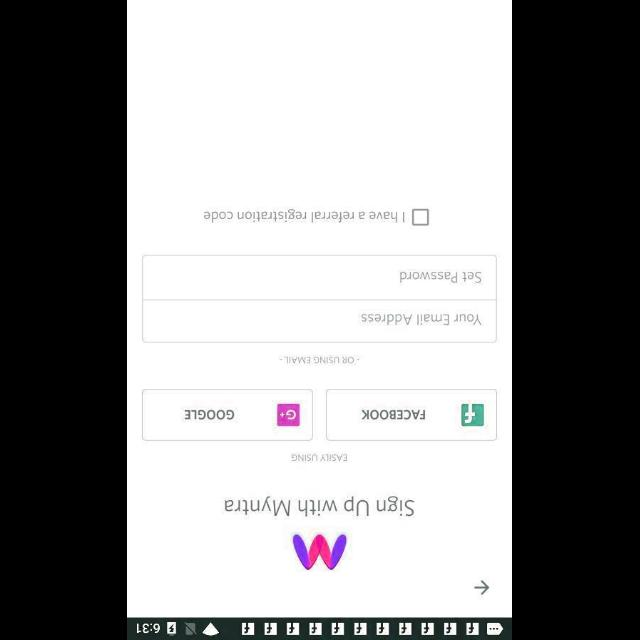checkbox: (412, 208, 430, 226)
icon: (474, 580, 490, 594)
image: (292, 532, 348, 570)
input: (143, 254, 497, 300), (143, 300, 497, 342)
text: (226, 496, 414, 516), (203, 208, 404, 224), (362, 313, 482, 325), (400, 271, 482, 283), (286, 356, 354, 364), (292, 453, 348, 461)
textbutton: (142, 389, 314, 441), (327, 389, 498, 441)
uppertaskbar: (128, 617, 512, 639)
